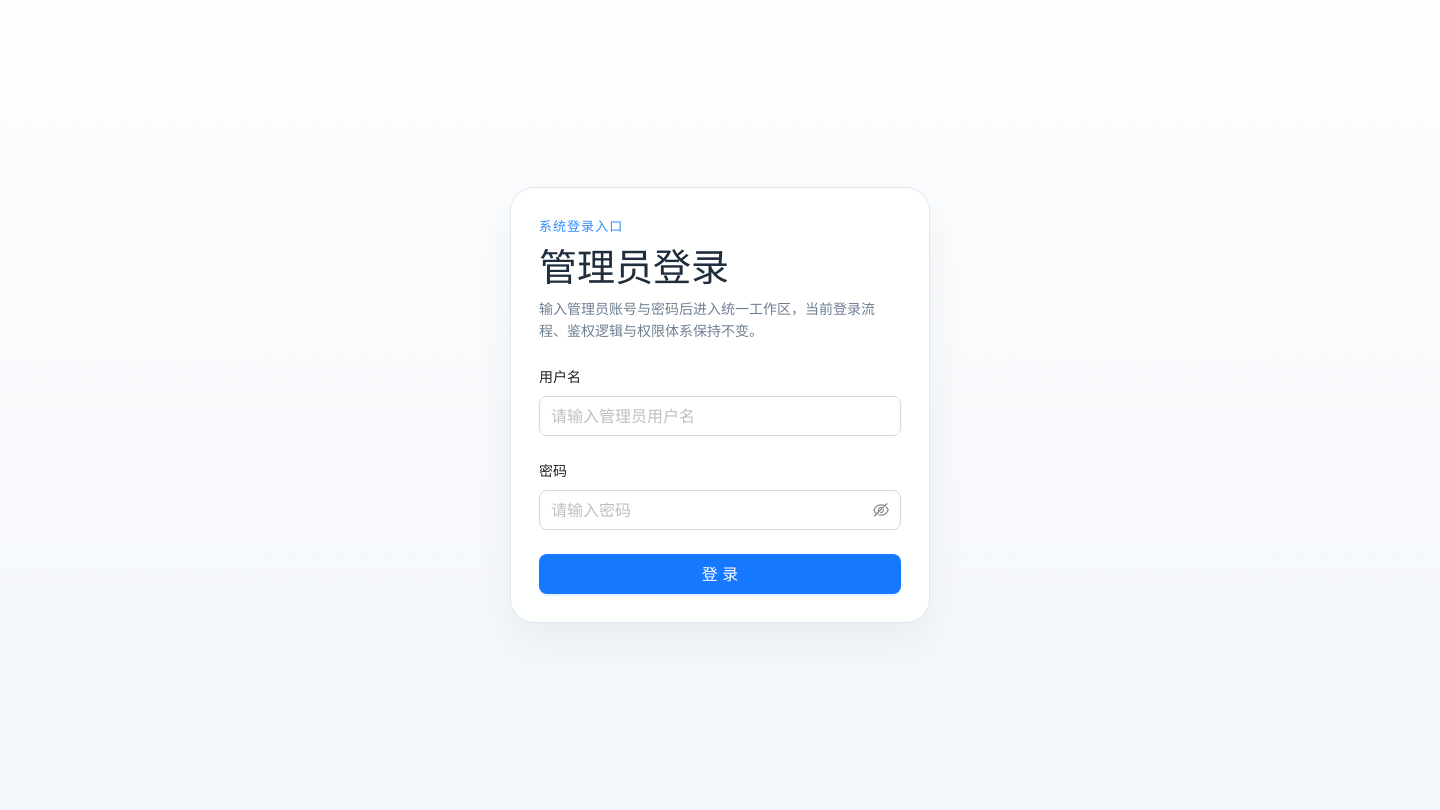
Test: App › validates required login fields before sending request
This screenshot has width=1440, height=810.
Click the button named "登录" at (720, 574), box x1=539 y1=554 x2=901 y2=594
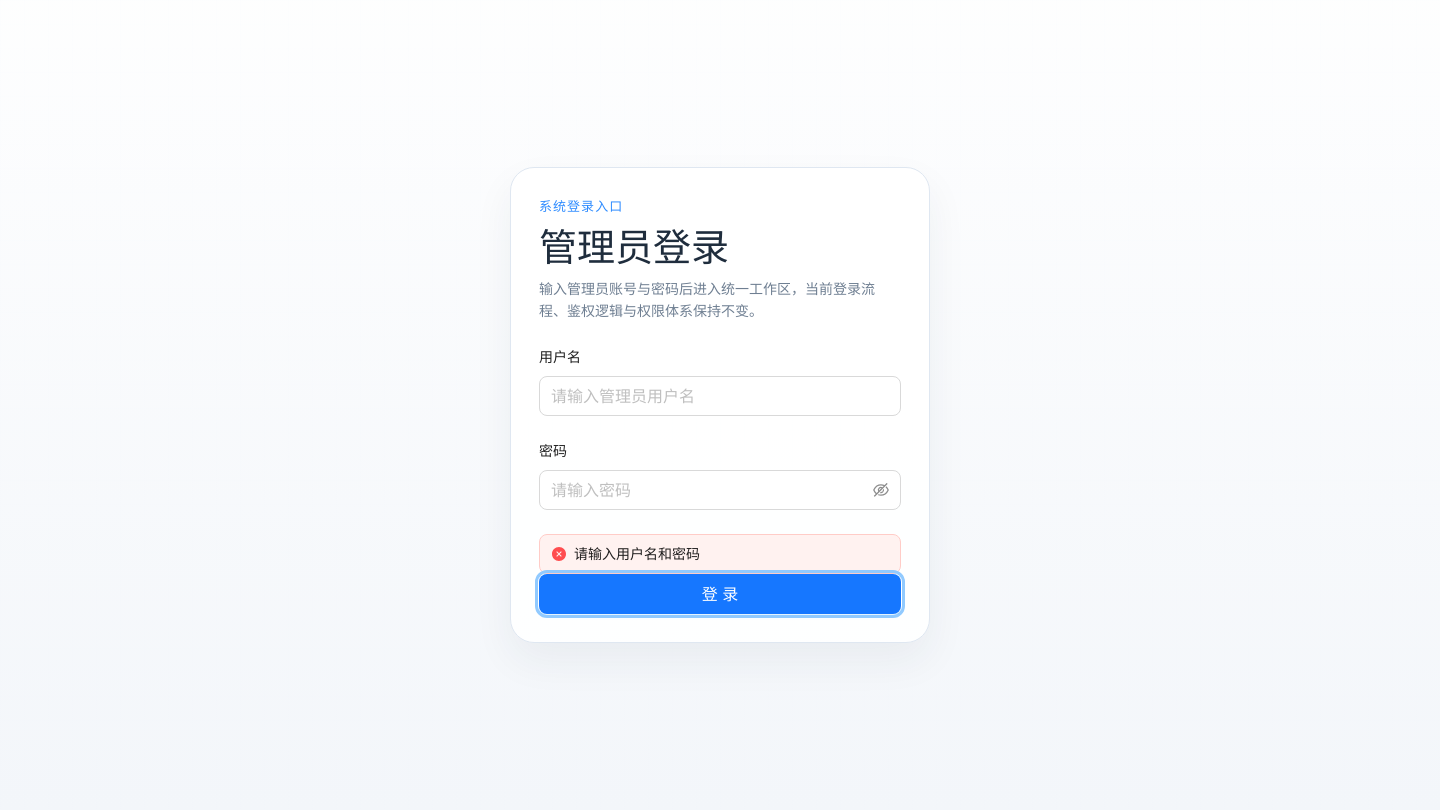
Now the message reads "请输入用户名和密码", box x1=574 y1=545 x2=700 y2=562
